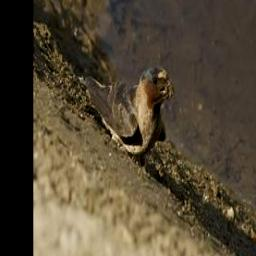Swallow: (82, 64, 174, 160)
